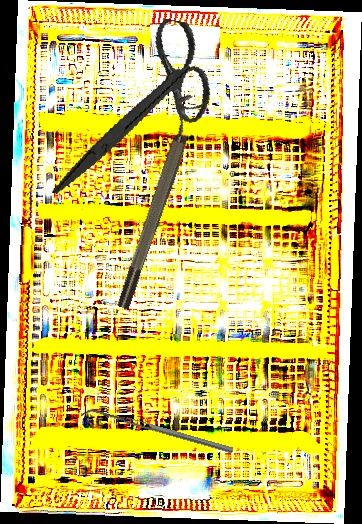Fixation Ring: (104, 91, 209, 312)
Iris Scissors: (48, 2, 226, 221)
Spatula Surgical: (80, 404, 234, 460)
